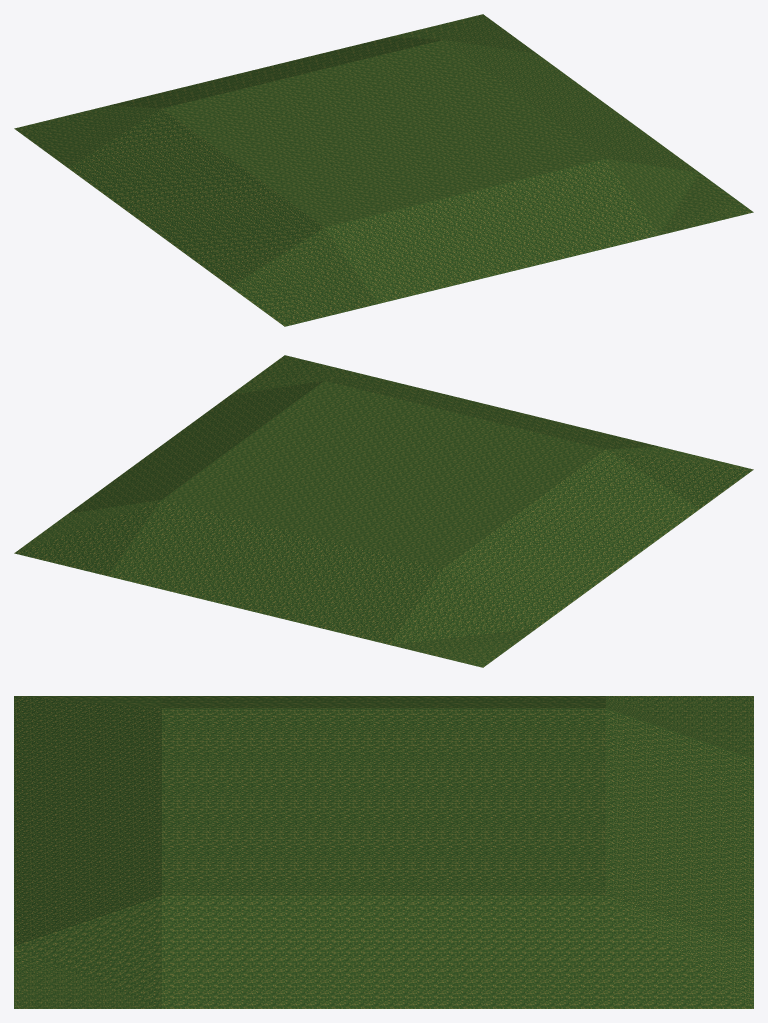
Rendered from terrain_plateau.glb.
3 views of the same model, one above another, from view 1: azimuth 30°, elevation 25°; view 2: azimuth 150°, elevation 25°; view 3: azimuth 270°, elevation 25° (orthographic). The views are drawn at different scales.
Parts seen in each view (by area): view 1: TerrainPlateau; view 2: TerrainPlateau; view 3: TerrainPlateau.
Boxes of the visible parts, x1,y1,x2,y2 form: TerrainPlateau: [14, 14, 753, 326]; TerrainPlateau: [14, 355, 753, 667]; TerrainPlateau: [14, 696, 753, 1008].
Bounding box in the file's own units: 200 × 15 × 200.
1 material, 1 textured.
